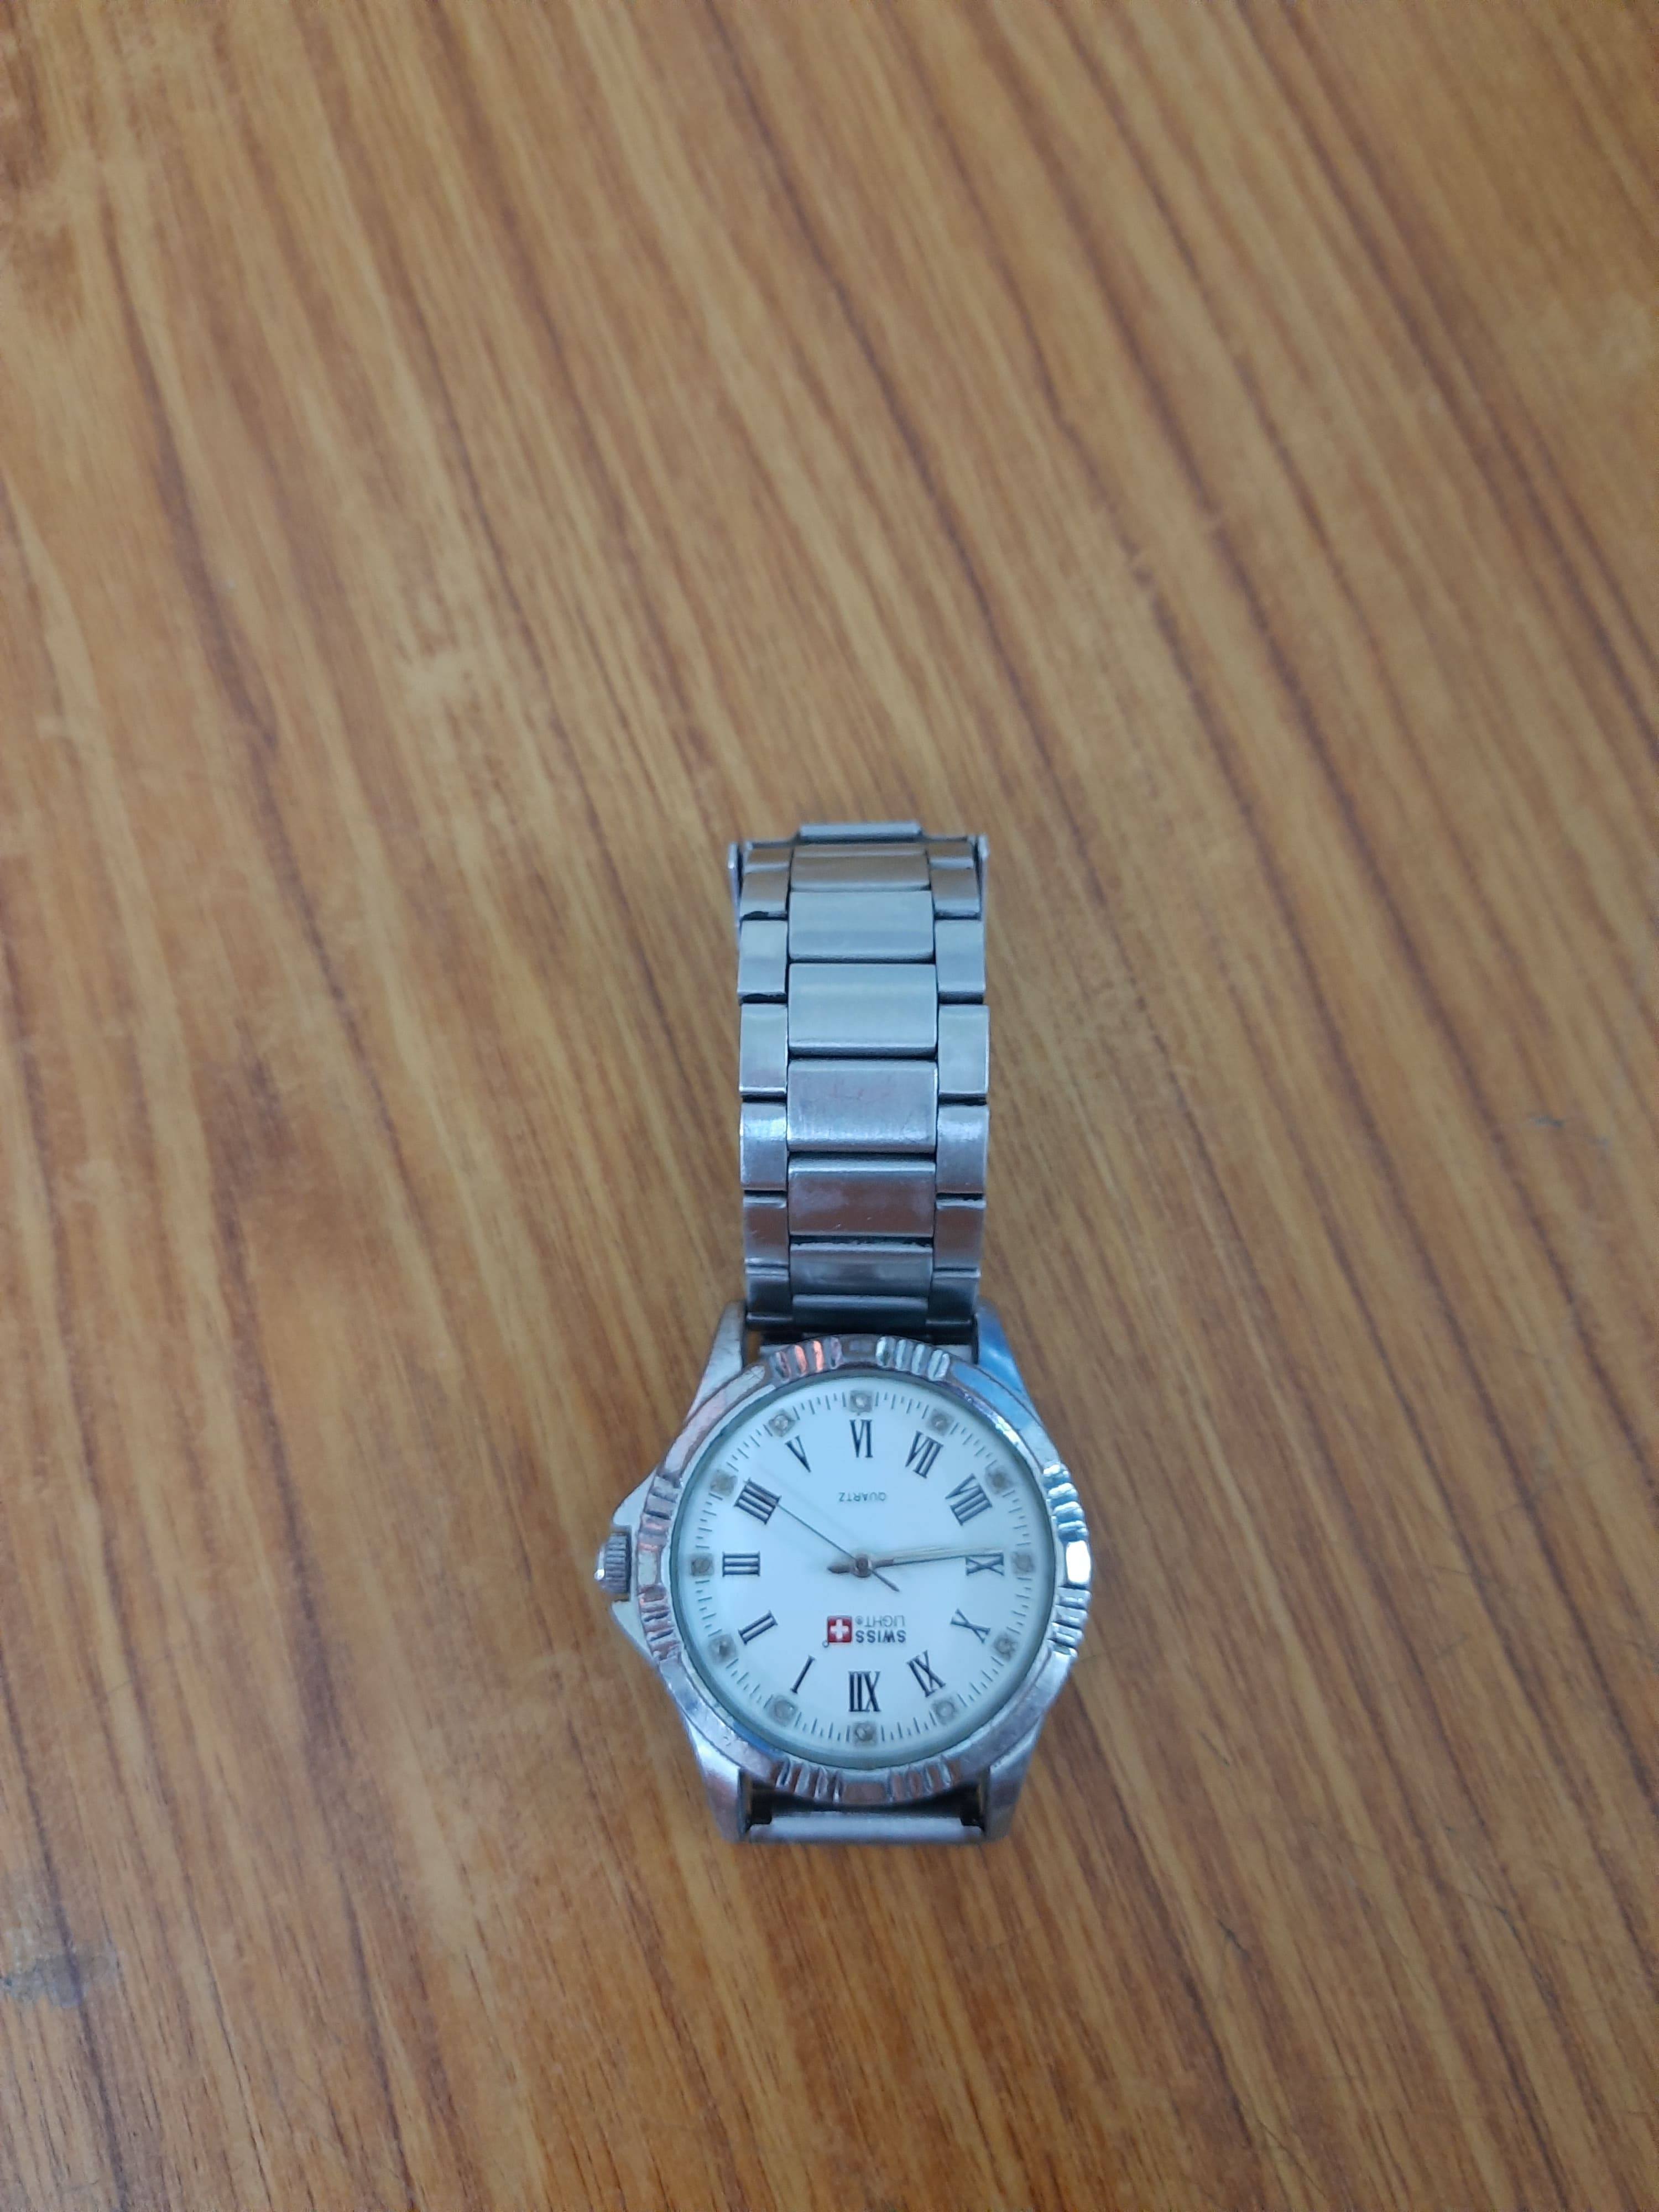Vikash's Watch: (582, 810, 1101, 1860)
